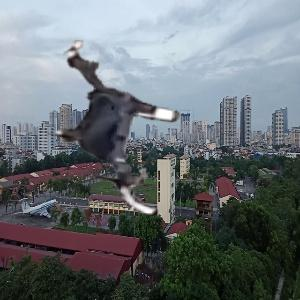drone: (20, 35, 207, 222)
